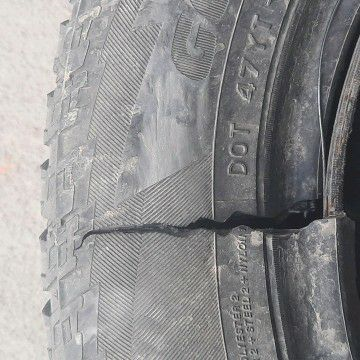bead_damage: (65, 2, 359, 260)
cut: (71, 181, 359, 255)
